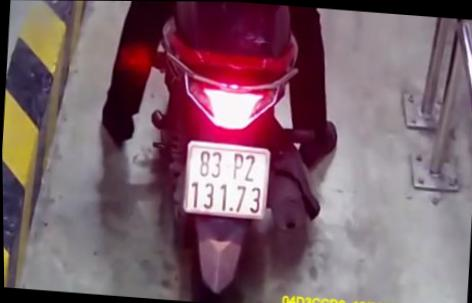LP: (182, 142, 271, 221)
